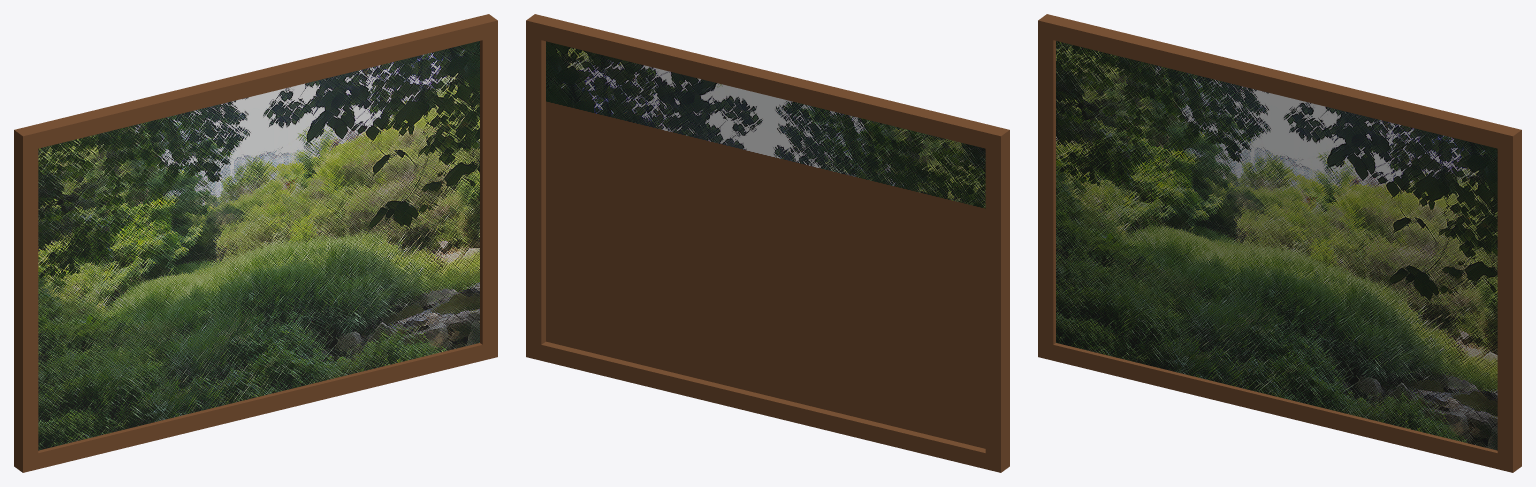
The model's file is PictureFrame.fbx.
3 renders of one model, left to right at view 1: azimuth 30°, elevation 25°; view 2: azimuth 150°, elevation 25°; view 3: azimuth 330°, elevation 25°, orthographic.
Parts seen in each view (by area): view 1: PictureFrame; view 2: PictureFrame; view 3: PictureFrame.
Boxes of the visible parts, x1,y1,x2,y2 form: PictureFrame: (14,14,497,472); PictureFrame: (526,14,1009,472); PictureFrame: (1038,14,1521,472).
Size of the model in its own units: 0.62 by 0.42 by 0.02.
1 material, 1 textured.
